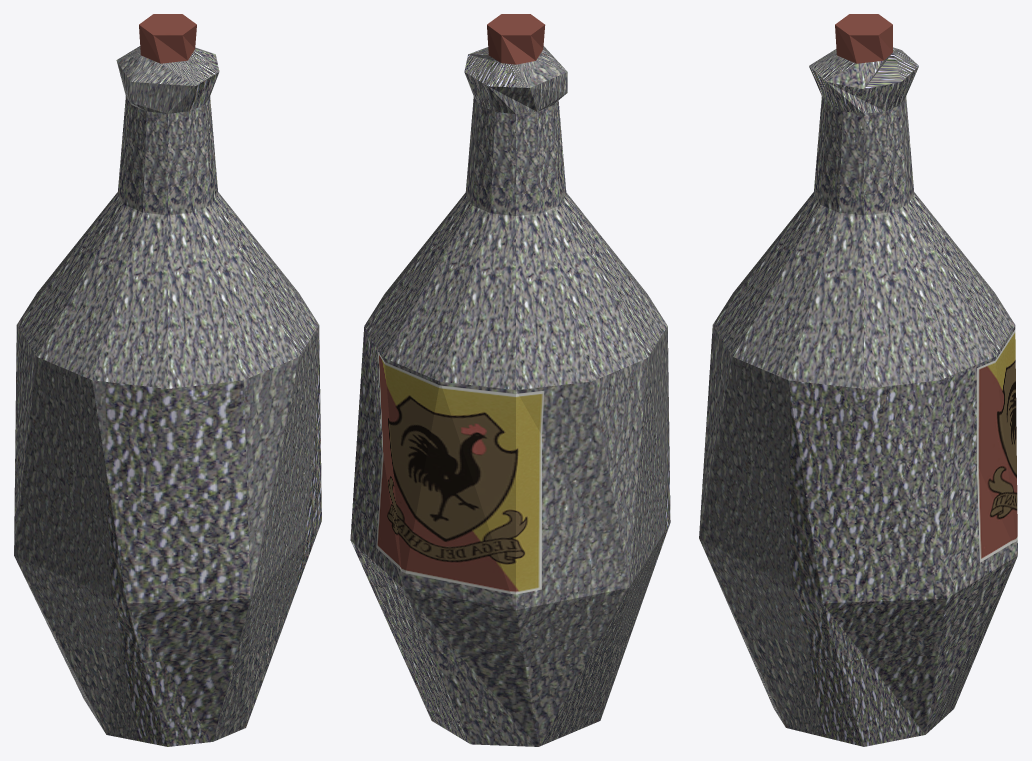
The model's file is tavern_Bottle_LOD.dae.
3 renders of one model, left to right at view 1: azimuth 30°, elevation 25°; view 2: azimuth 150°, elevation 25°; view 3: azimuth 270°, elevation 25°, orthographic.
Visible parts, largest first — view 1: Default_Layer; view 2: Default_Layer; view 3: Default_Layer.
Boxes of the visible parts, x1,y1,x2,y2 form: Default_Layer: [14, 14, 321, 746]; Default_Layer: [350, 14, 670, 746]; Default_Layer: [699, 14, 1017, 746].
Bounding box in the file's own units: 0.6477 × 1.59 × 0.6709.
